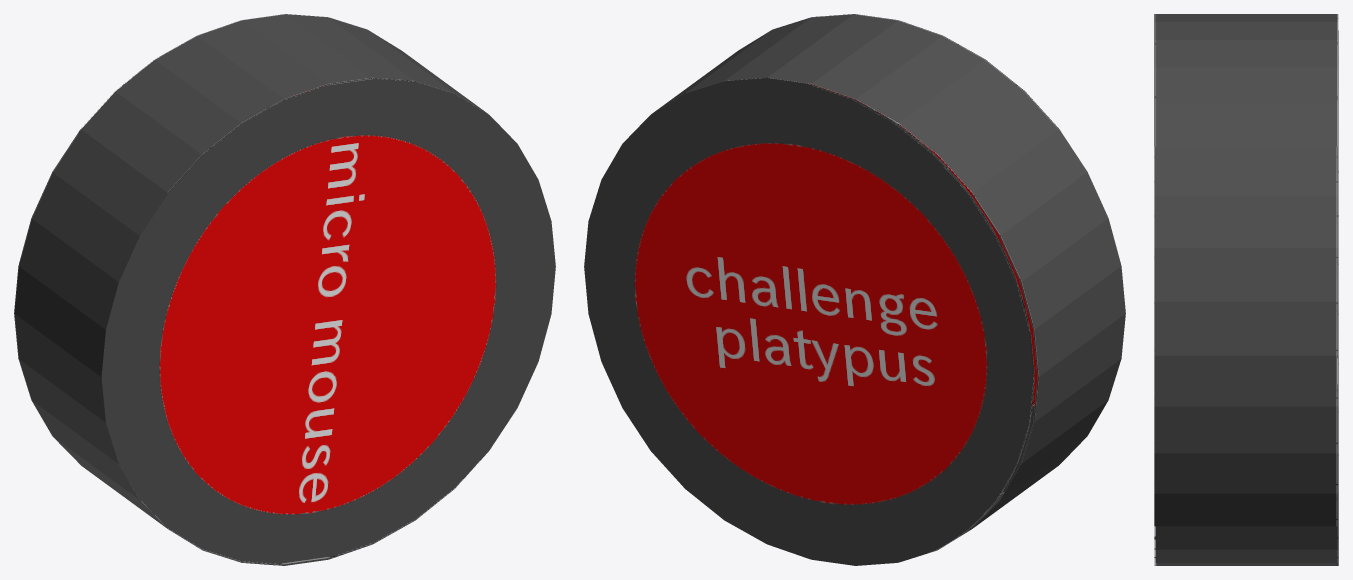
The model's file is wheel.dae.
3 views of the same model, side by side, from view 1: azimuth 30°, elevation 25°; view 2: azimuth 150°, elevation 25°; view 3: azimuth 270°, elevation 25° (orthographic). The views are drawn at different scales.
Parts seen in each view (by area): view 1: Circle_001; view 2: Circle_001; view 3: Circle_001.
Part boxes in pixels (<box>): Circle_001: <box>14,14,555,565</box>; Circle_001: <box>584,14,1125,565</box>; Circle_001: <box>1154,14,1338,565</box>.
Bounding box in the file's own units: 0.03 × 0.01 × 0.03.
1 material, 1 textured.
